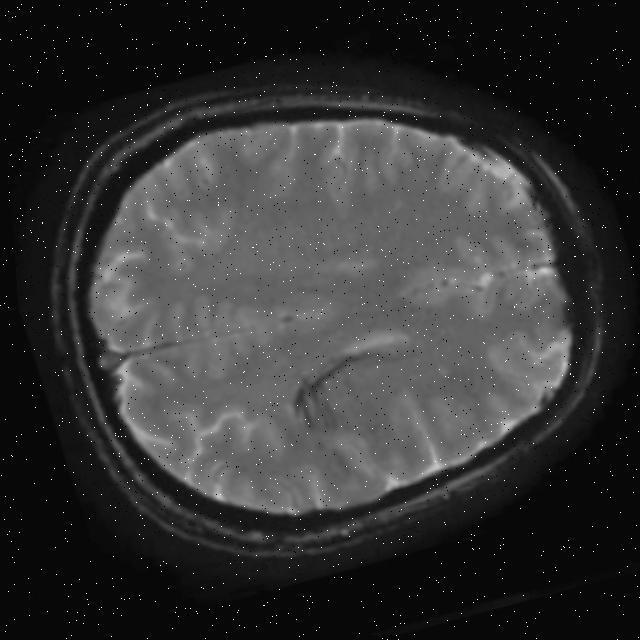NoTumor: (1, 4, 640, 605)
